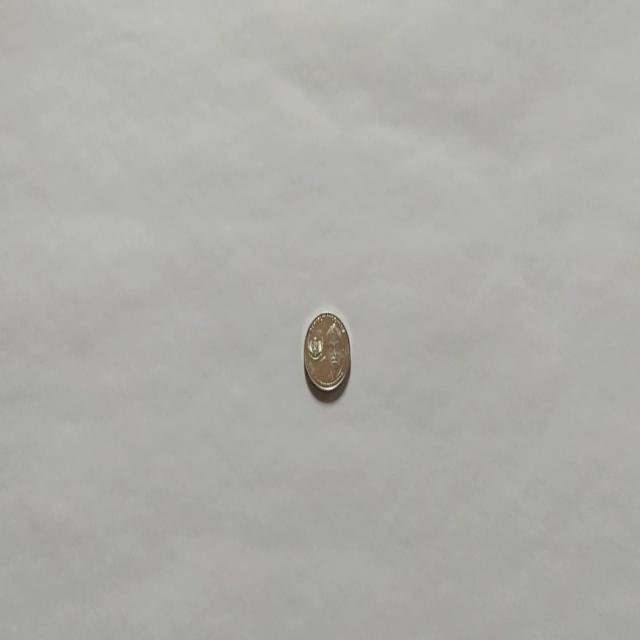dua ratus rupiah: (303, 310, 352, 393)
